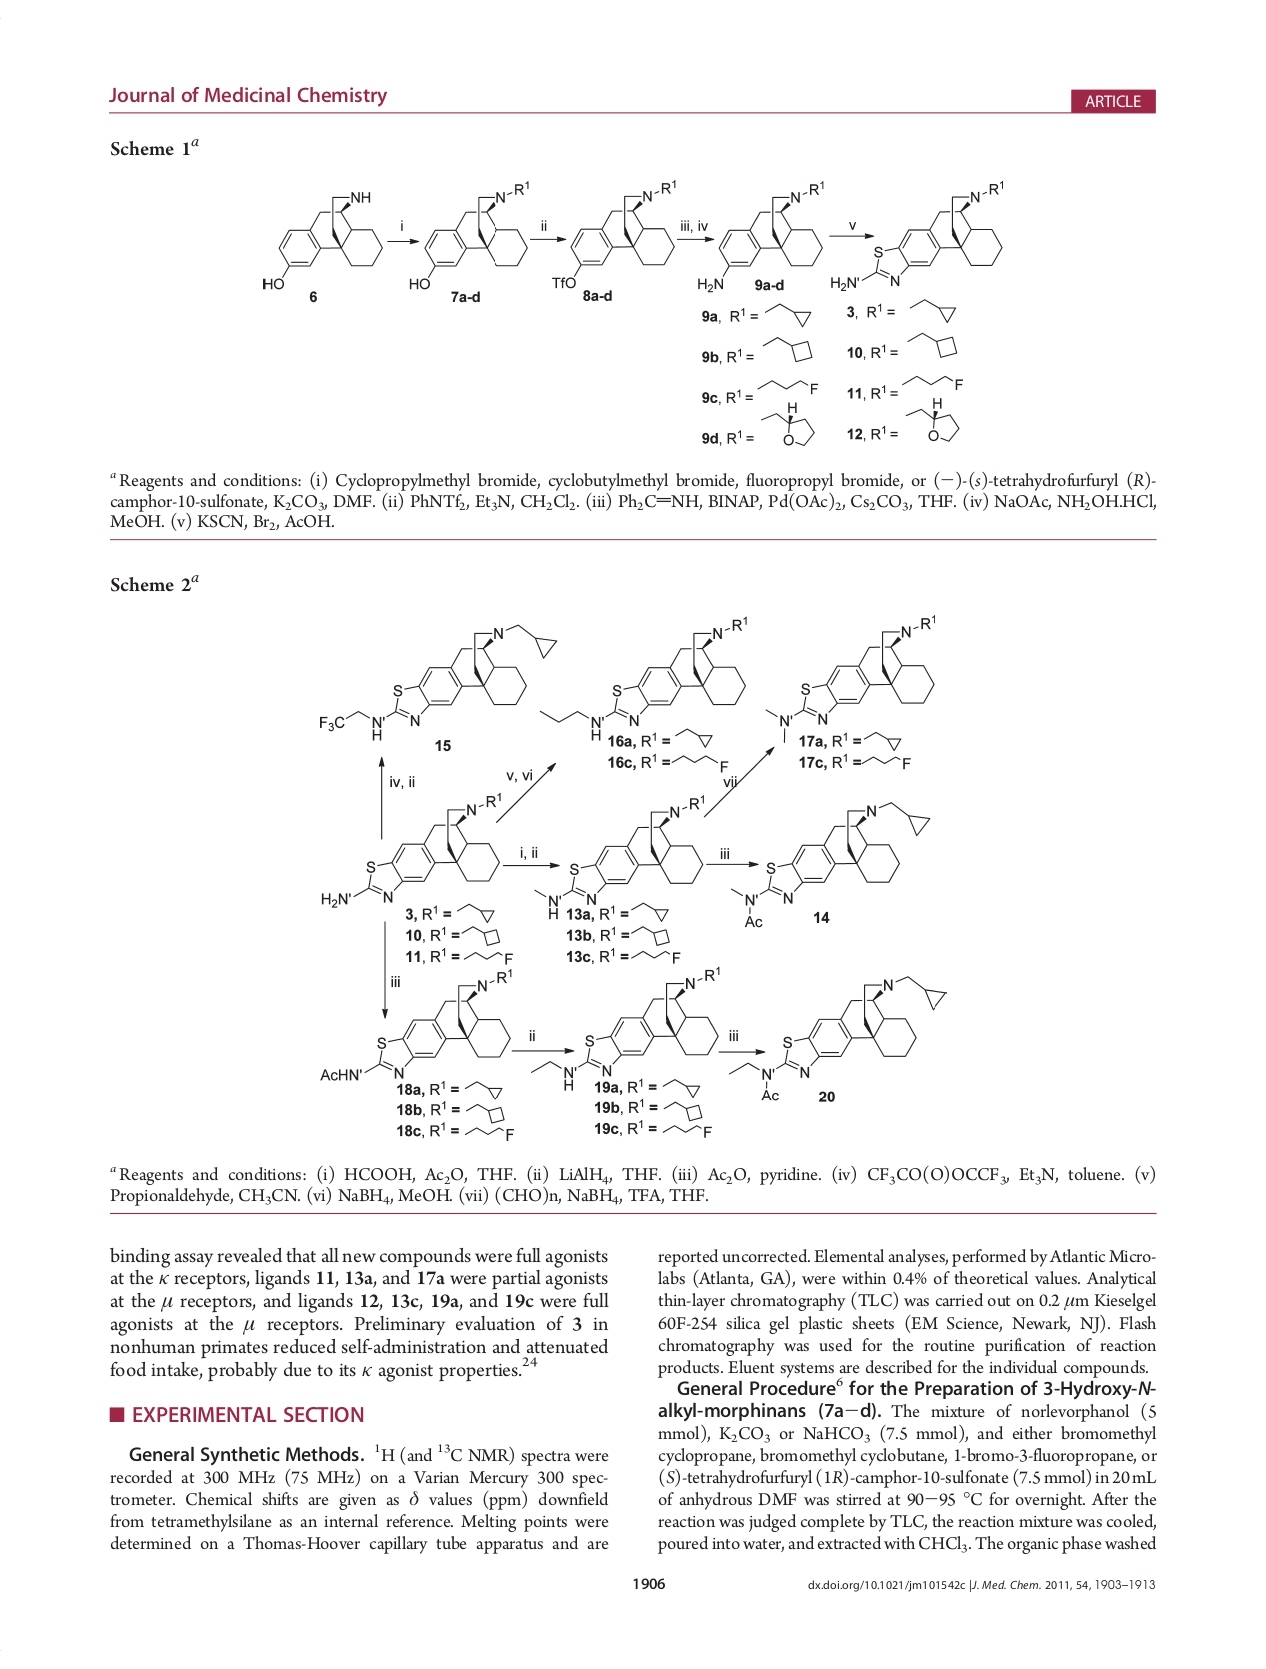exist_molecular: (316, 620, 559, 742), (726, 973, 949, 1102), (537, 612, 749, 739), (729, 799, 931, 930), (528, 964, 719, 1092), (762, 613, 939, 743), (318, 965, 515, 1083), (532, 793, 706, 920), (315, 791, 501, 908), (824, 178, 1007, 293), (696, 180, 824, 293), (551, 177, 677, 290), (407, 180, 532, 293), (261, 190, 386, 290), (902, 394, 960, 447), (758, 398, 817, 448), (751, 374, 821, 400), (762, 335, 817, 368), (761, 297, 813, 330), (903, 294, 957, 324), (896, 370, 965, 394), (902, 330, 960, 358), (670, 750, 727, 777), (672, 723, 719, 749), (457, 922, 501, 948), (461, 1122, 516, 1144), (660, 1097, 705, 1122), (658, 1121, 715, 1141), (860, 750, 914, 770), (628, 896, 669, 922), (628, 923, 670, 947), (862, 727, 902, 753), (461, 1101, 508, 1122), (629, 946, 681, 964), (662, 1076, 701, 1100), (460, 950, 515, 965), (457, 902, 497, 923), (460, 1080, 501, 1100)
